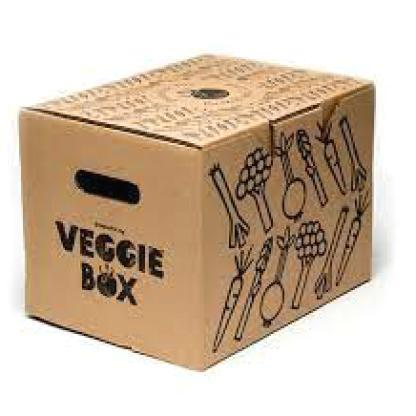box: (10, 46, 386, 376)
